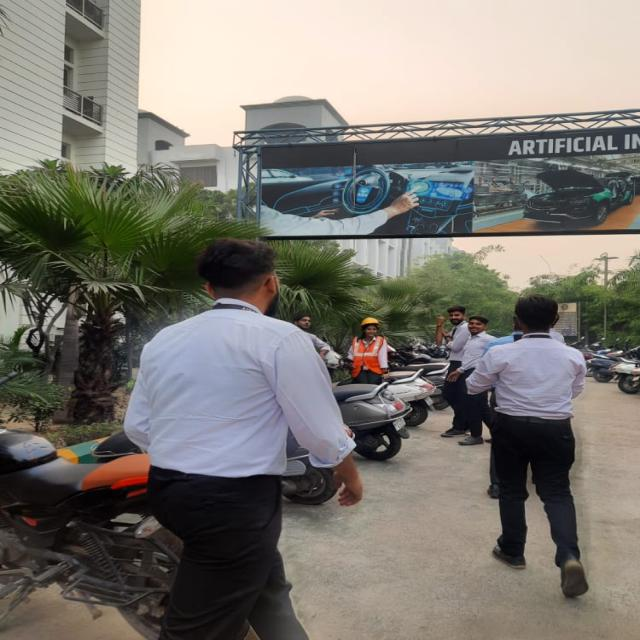safe: (348, 317, 387, 387)
unsafe: (133, 236, 357, 616), (494, 295, 618, 604), (436, 305, 466, 438), (463, 315, 493, 447)
